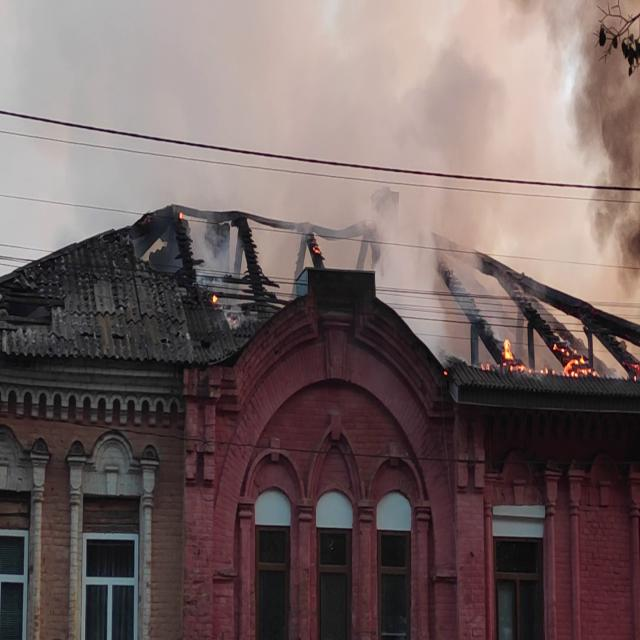fire: (457, 342, 488, 375), (520, 353, 552, 379)
smoke: (596, 70, 640, 259), (398, 216, 432, 318)
